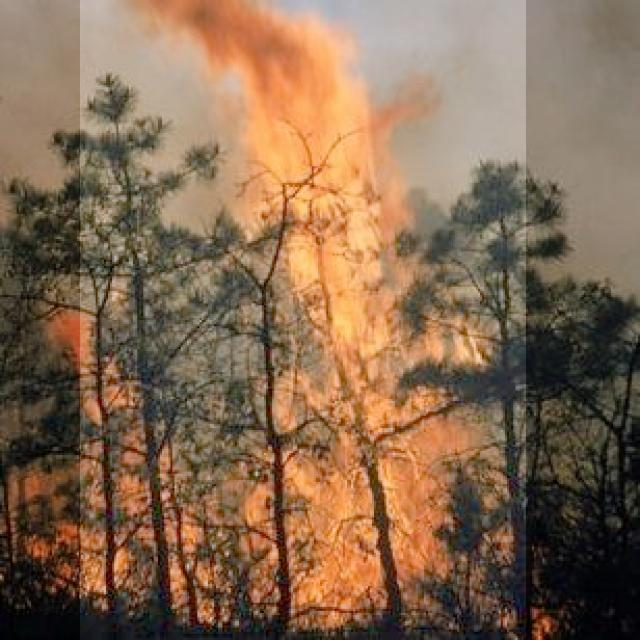Fire: (80, 0, 526, 640)
